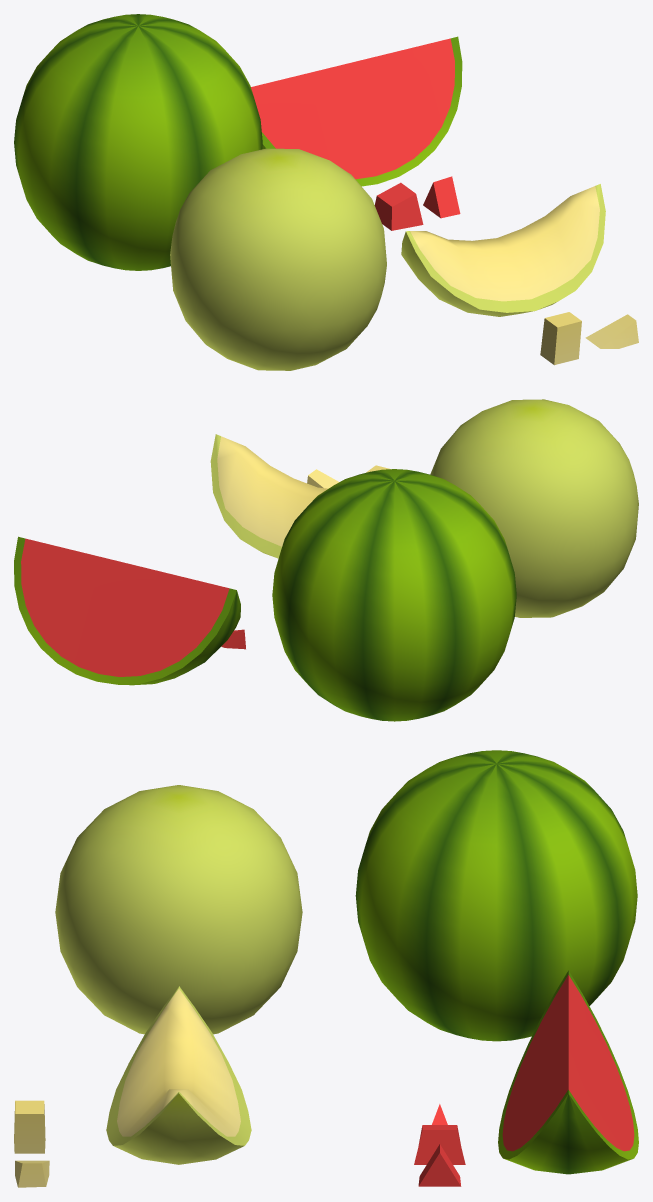
Rendered from melon.fbx.
3 views of the same model, one above another, from view 1: azimuth 30°, elevation 25°; view 2: azimuth 150°, elevation 25°; view 3: azimuth 270°, elevation 25° (orthographic). The views are drawn at different scales.
Visible parts, largest first — view 1: watermelon, melon, watermelon_Sliced_Big, melon_Sliced_Big, melon_Sliced_Small_1, watermelon_Sliced_Small_2, melon_Sliced_Small_2, watermelon_Sliced_Small_3; view 2: watermelon, melon, watermelon_Sliced_Big, melon_Sliced_Big; view 3: watermelon, melon, watermelon_Sliced_Big, melon_Sliced_Big, melon_Sliced_Small_1, watermelon_Sliced_Small_2, watermelon_Sliced_Small_3, melon_Sliced_Small_2.
Boxes of the visible parts, <box> form: watermelon: <box>14,14,262,270</box>; melon: <box>170,148,386,370</box>; watermelon_Sliced_Big: <box>251,36,462,186</box>; melon_Sliced_Big: <box>401,184,605,316</box>; melon_Sliced_Small_1: <box>540,312,581,365</box>; watermelon_Sliced_Small_2: <box>374,182,423,230</box>; melon_Sliced_Small_2: <box>585,314,638,348</box>; watermelon_Sliced_Small_3: <box>423,176,460,218</box>; watermelon: <box>272,469,516,721</box>; melon: <box>430,399,638,617</box>; watermelon_Sliced_Big: <box>14,536,240,685</box>; melon_Sliced_Big: <box>210,434,327,558</box>; watermelon: <box>355,750,637,1041</box>; melon: <box>55,785,302,1034</box>; watermelon_Sliced_Big: <box>498,970,638,1174</box>; melon_Sliced_Big: <box>106,986,251,1164</box>; melon_Sliced_Small_1: <box>14,1100,45,1153</box>; watermelon_Sliced_Small_2: <box>414,1125,465,1164</box>; watermelon_Sliced_Small_3: <box>418,1144,461,1186</box>; melon_Sliced_Small_2: <box>15,1160,49,1187</box>.
Size of the model in its own units: 3.3 by 3.43 by 1.6.
1 material, 1 textured.
